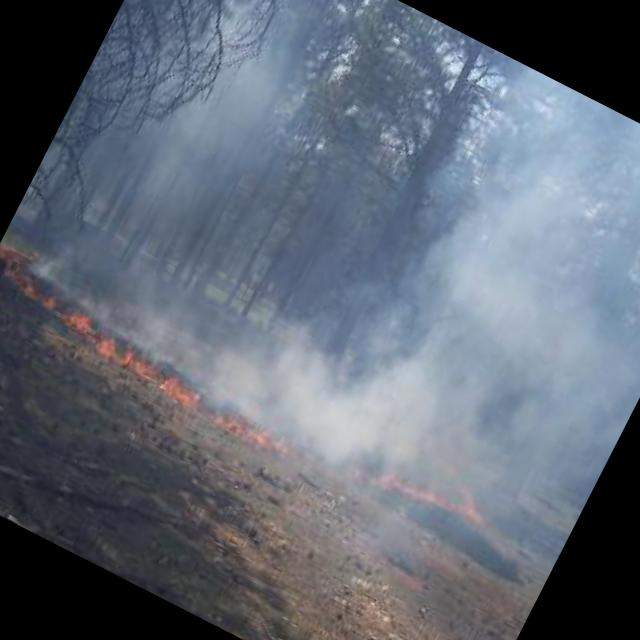fire: (392, 462, 500, 536), (197, 400, 291, 470), (136, 362, 210, 424), (93, 332, 149, 382), (0, 259, 45, 307), (62, 308, 108, 352), (31, 284, 72, 331)
smoke: (298, 42, 640, 536), (100, 0, 371, 272), (24, 186, 336, 400)
